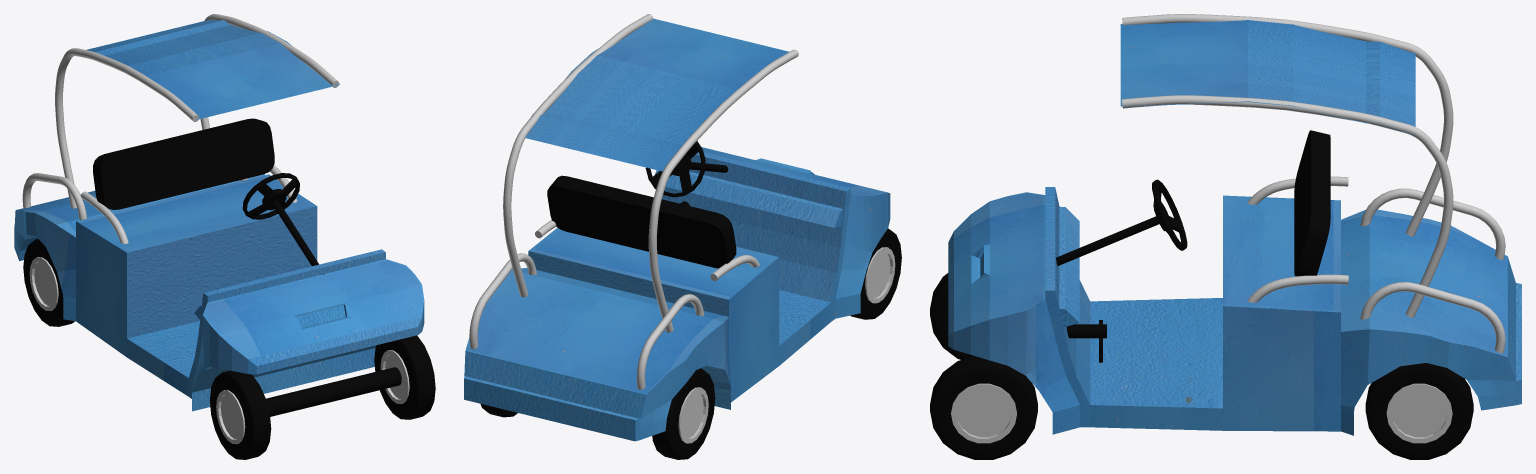
File: golf_cart.glb
The picture shows the model from 3 angles, left to right: view 1: azimuth 30°, elevation 25°; view 2: azimuth 150°, elevation 25°; view 3: azimuth 270°, elevation 25°; orthographic projection. The views are drawn at different scales.
Parts seen in each view (by area): view 1: Plane004_Material #27_0, Plane005_Material #34_0, Object002_Material #29_0, Box001_Material #31_0, Cylinder002_Material #31_0, Cylinder013_Material #31_0, Cylinder019_Material #31_0, Line007_Material #32_0, Cylinder017_Material #31_0, Cylinder001_Material #32_0, Cylinder016_Material #32_0, Cylinder010_Material #31_0 (+6 smaller); view 2: Plane004_Material #27_0, Plane005_Material #34_0, Object002_Material #29_0, Box001_Material #31_0, Line007_Material #32_0, Line010_Material #32_0, Cylinder017_Material #31_0, Cylinder002_Material #31_0, Cylinder016_Material #32_0, Cylinder001_Material #32_0, Line003_Material #32_0, Line009_Material #32_0 (+2 smaller); view 3: Plane004_Material #27_0, Object001_Material #29_0, Plane005_Material #34_0, Cylinder013_Material #31_0, Cylinder015_Material #31_0, Line010_Material #32_0, Box001_Material #31_0, Line007_Material #32_0, Cylinder012_Material #32_0, Cylinder014_Material #32_0, Line009_Material #32_0, Line003_Material #32_0 (+7 smaller).
Boxes of the visible parts, x1,y1,x2,y2 form: Plane004_Material #27_0: [17, 174, 422, 411]; Plane005_Material #34_0: [86, 19, 339, 119]; Object002_Material #29_0: [14, 209, 257, 398]; Box001_Material #31_0: [93, 118, 274, 209]; Cylinder002_Material #31_0: [209, 370, 271, 459]; Cylinder013_Material #31_0: [374, 335, 435, 419]; Cylinder019_Material #31_0: [266, 367, 401, 416]; Line007_Material #32_0: [55, 48, 199, 208]; Cylinder017_Material #31_0: [23, 239, 74, 326]; Cylinder001_Material #32_0: [216, 390, 245, 444]; Cylinder016_Material #32_0: [29, 257, 58, 310]; Cylinder010_Material #31_0: [242, 173, 299, 219]; Plane004_Material #27_0: [465, 147, 886, 440]; Plane005_Material #34_0: [525, 18, 789, 171]; Object002_Material #29_0: [634, 188, 890, 441]; Box001_Material #31_0: [547, 175, 736, 268]; Line007_Material #32_0: [648, 49, 798, 332]; Line010_Material #32_0: [503, 14, 653, 297]; Cylinder017_Material #31_0: [652, 368, 715, 459]; Cylinder002_Material #31_0: [850, 228, 901, 319]; Cylinder016_Material #32_0: [678, 387, 708, 443]; Cylinder001_Material #32_0: [865, 247, 895, 303]; Line003_Material #32_0: [636, 294, 704, 389]; Line009_Material #32_0: [469, 253, 536, 349]; Plane004_Material #27_0: [948, 188, 1521, 407]; Object001_Material #29_0: [948, 290, 1521, 435]; Plane005_Material #34_0: [1120, 20, 1415, 135]; Cylinder013_Material #31_0: [930, 356, 1037, 459]; Cylinder015_Material #31_0: [1365, 363, 1473, 459]; Line010_Material #32_0: [1122, 95, 1453, 317]; Box001_Material #31_0: [1294, 130, 1330, 276]; Line007_Material #32_0: [1122, 14, 1453, 236]; Cylinder012_Material #32_0: [951, 383, 1016, 443]; Cylinder014_Material #32_0: [1386, 383, 1452, 443]; Line009_Material #32_0: [1360, 282, 1505, 353]; Line003_Material #32_0: [1360, 188, 1505, 259].
Size of the model in its own units: 0.3913 by 0.5334 by 0.8084.
Materials: 5 (4 with a texture image).
